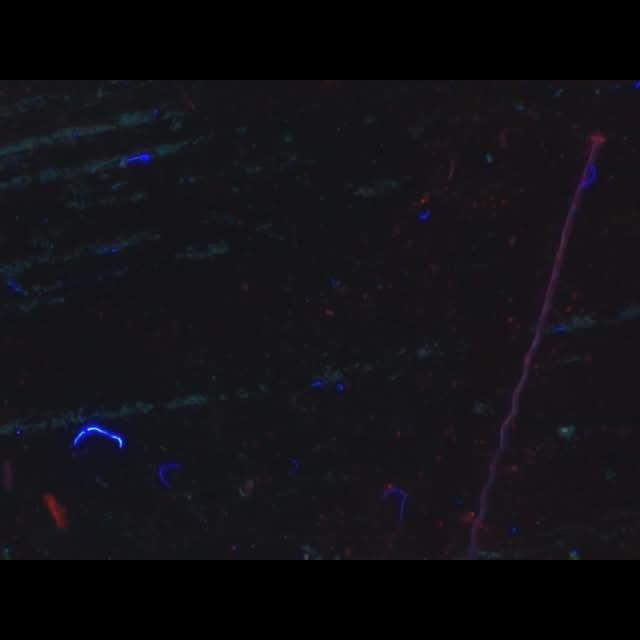Fragment: (44, 494, 66, 528)
